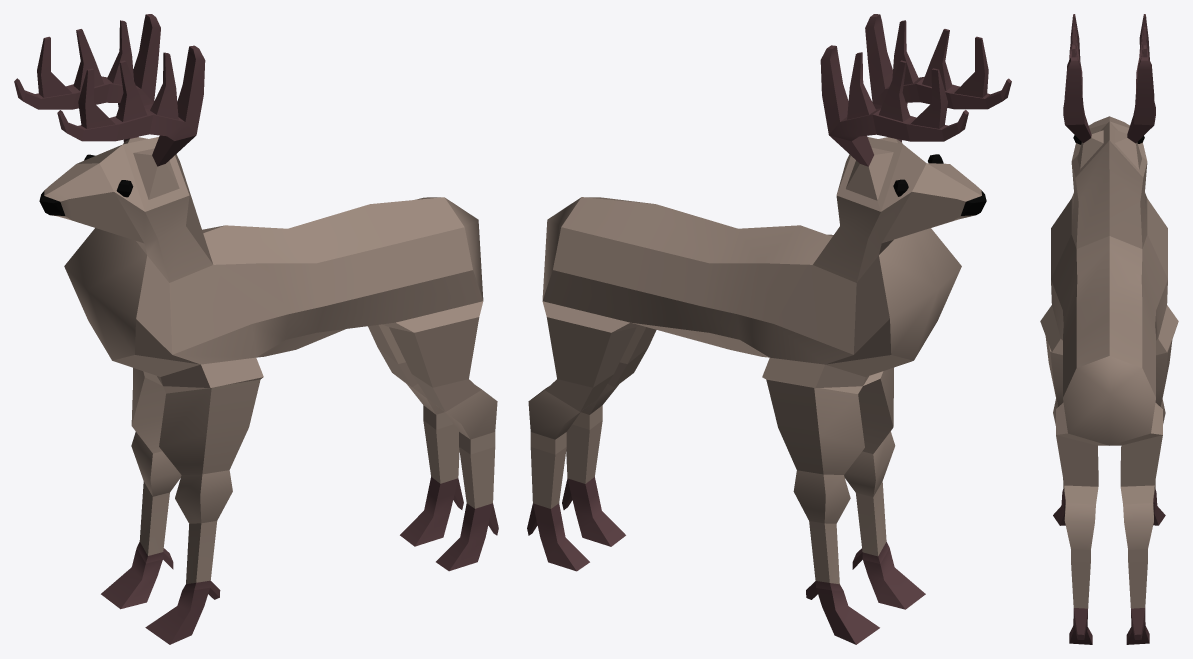
The model's file is Deer.fbx.
The picture shows the model from 3 angles, left to right: view 1: azimuth 30°, elevation 25°; view 2: azimuth 150°, elevation 25°; view 3: azimuth 270°, elevation 25°; orthographic projection. The views are drawn at different scales.
Visible parts, largest first — view 1: Deer; view 2: Deer; view 3: Deer.
Boxes of the visible parts, <box> form: Deer: <box>14,14,498,644</box>; Deer: <box>527,14,1011,644</box>; Deer: <box>1040,14,1178,644</box>.
Bounding box in the file's own units: 8.92 × 11.32 × 2.97.
